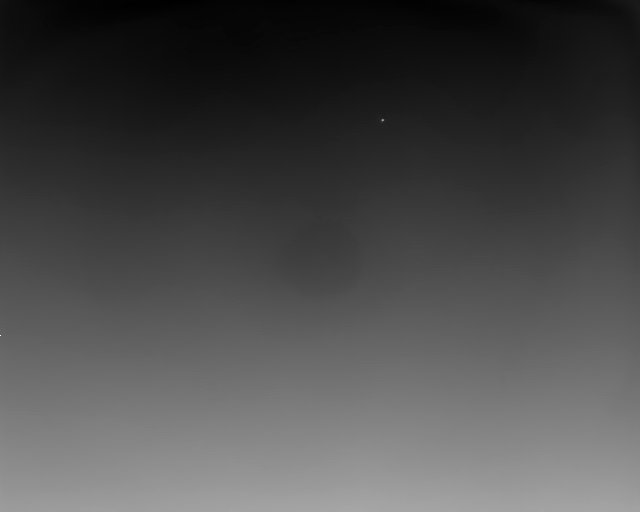Target: (381, 119, 384, 123)
